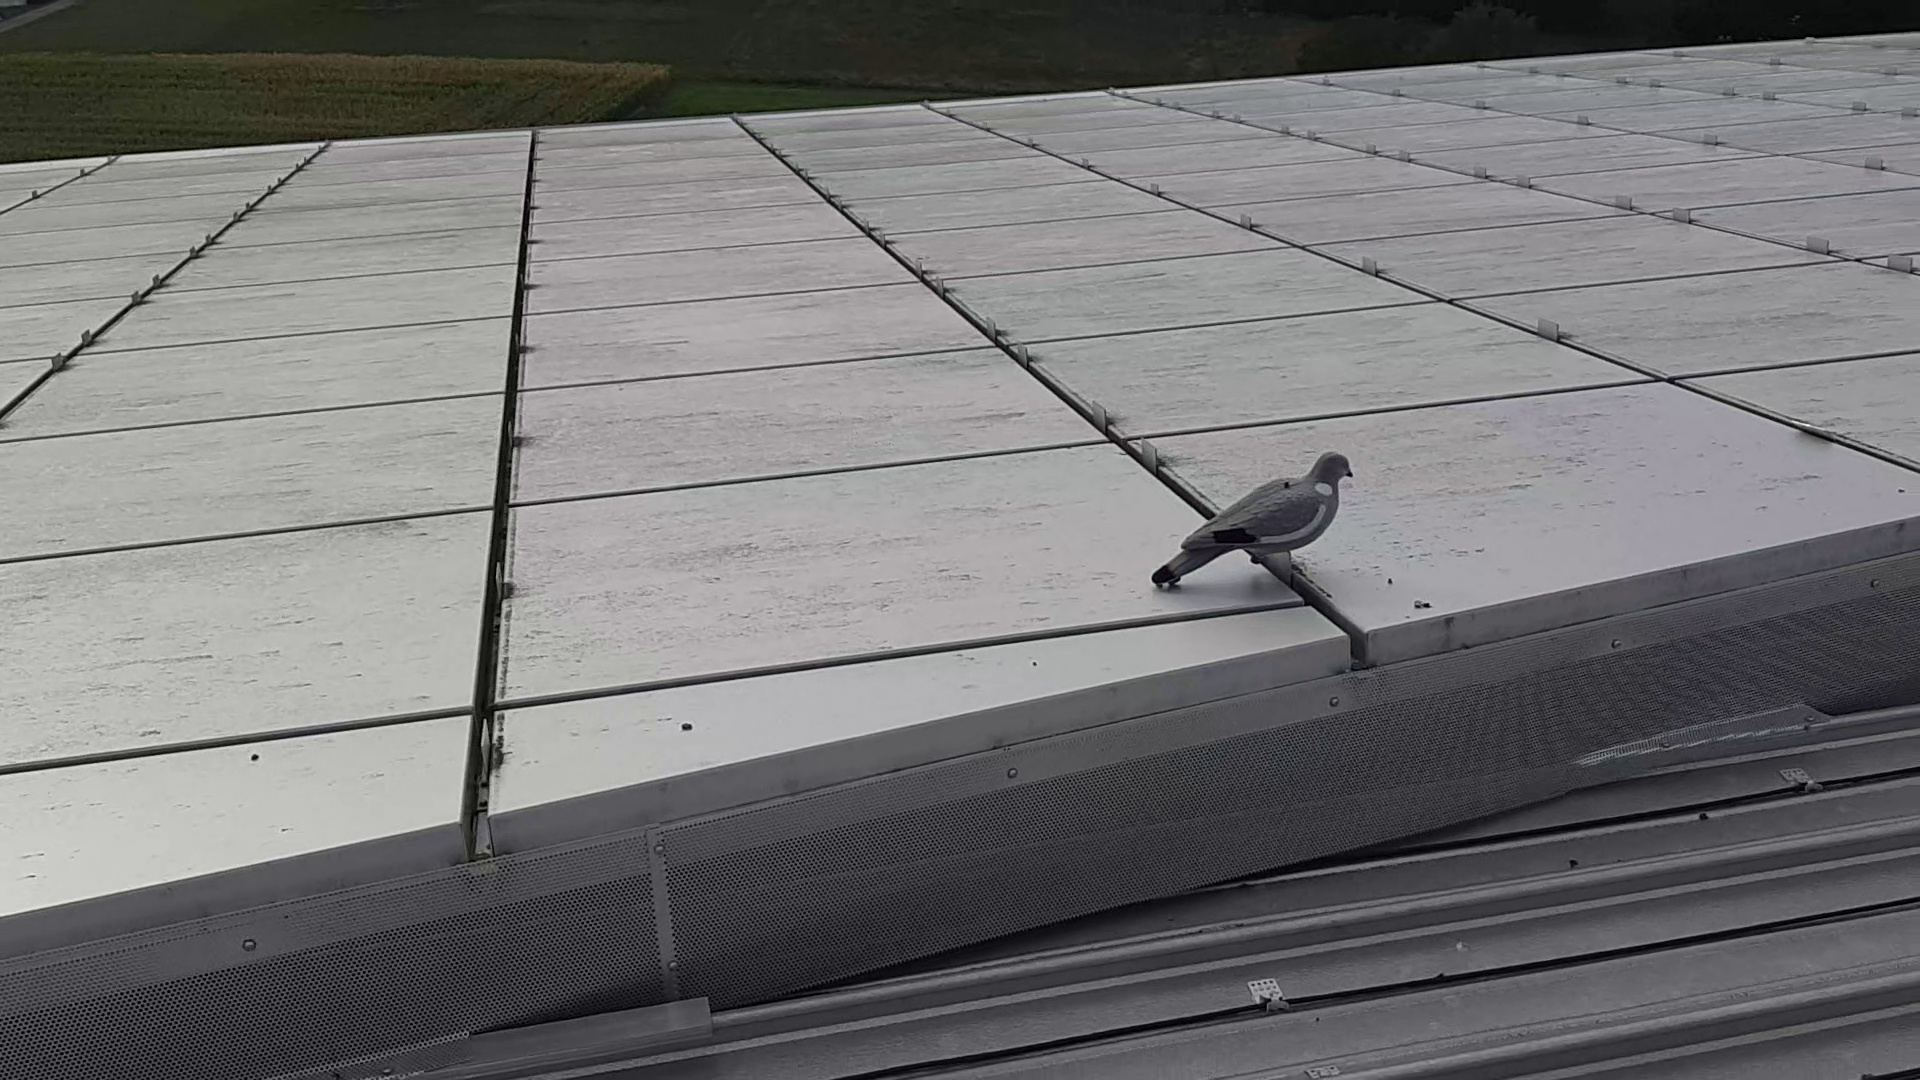Pigeon: (1153, 447, 1362, 593)
